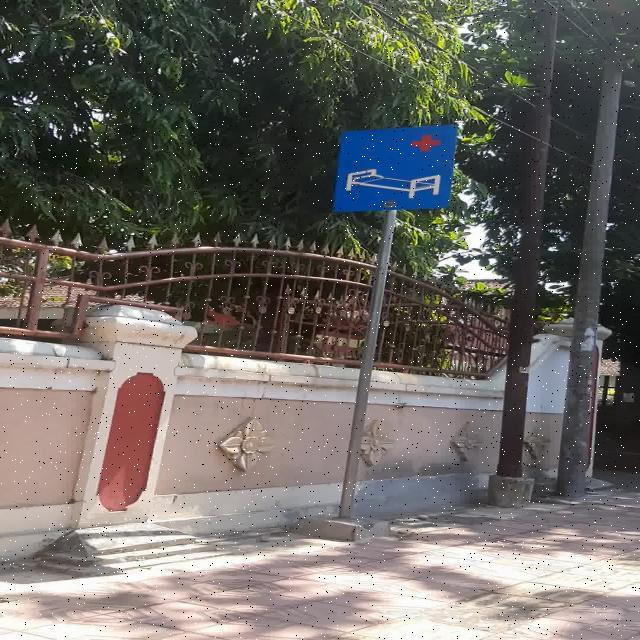Rumah Sakit: (334, 124, 456, 212)
